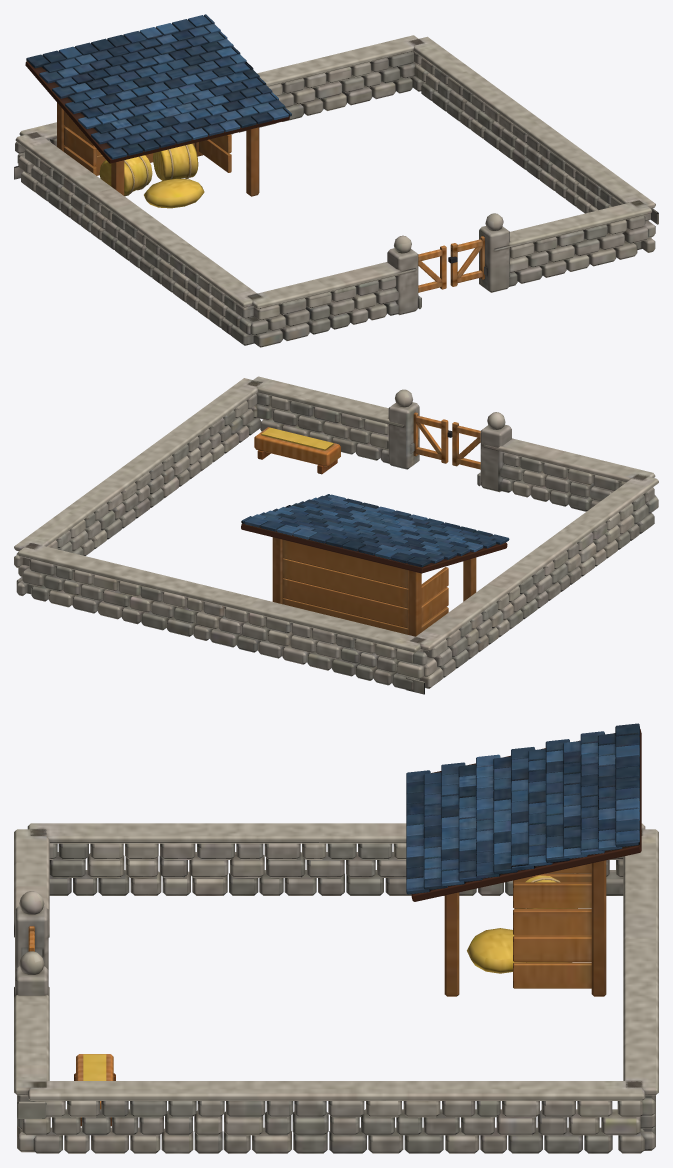
Rendered from galloway_pasture.glb.
3 views of the same model, one above another, from view 1: azimuth 30°, elevation 25°; view 2: azimuth 150°, elevation 25°; view 3: azimuth 270°, elevation 25° (orthographic). The views are drawn at different scales.
Parts seen in each view (by area): view 1: galloway_pasture, gate1, gate0; view 2: galloway_pasture, gate1, gate0; view 3: galloway_pasture.
Boxes of the visible parts, x1,y1,x2,y2 form: galloway_pasture: (14,14,658,347); gate1: (448,236,484,286); gate0: (418,245,446,292); galloway_pasture: (14,376,658,694); gate1: (413,412,452,463); gate0: (452,422,480,469); galloway_pasture: (14,723,658,1153).
Bounding box in the file's own units: 3.07 × 0.9345 × 3.07.
Materials: 1 (1 with a texture image).
